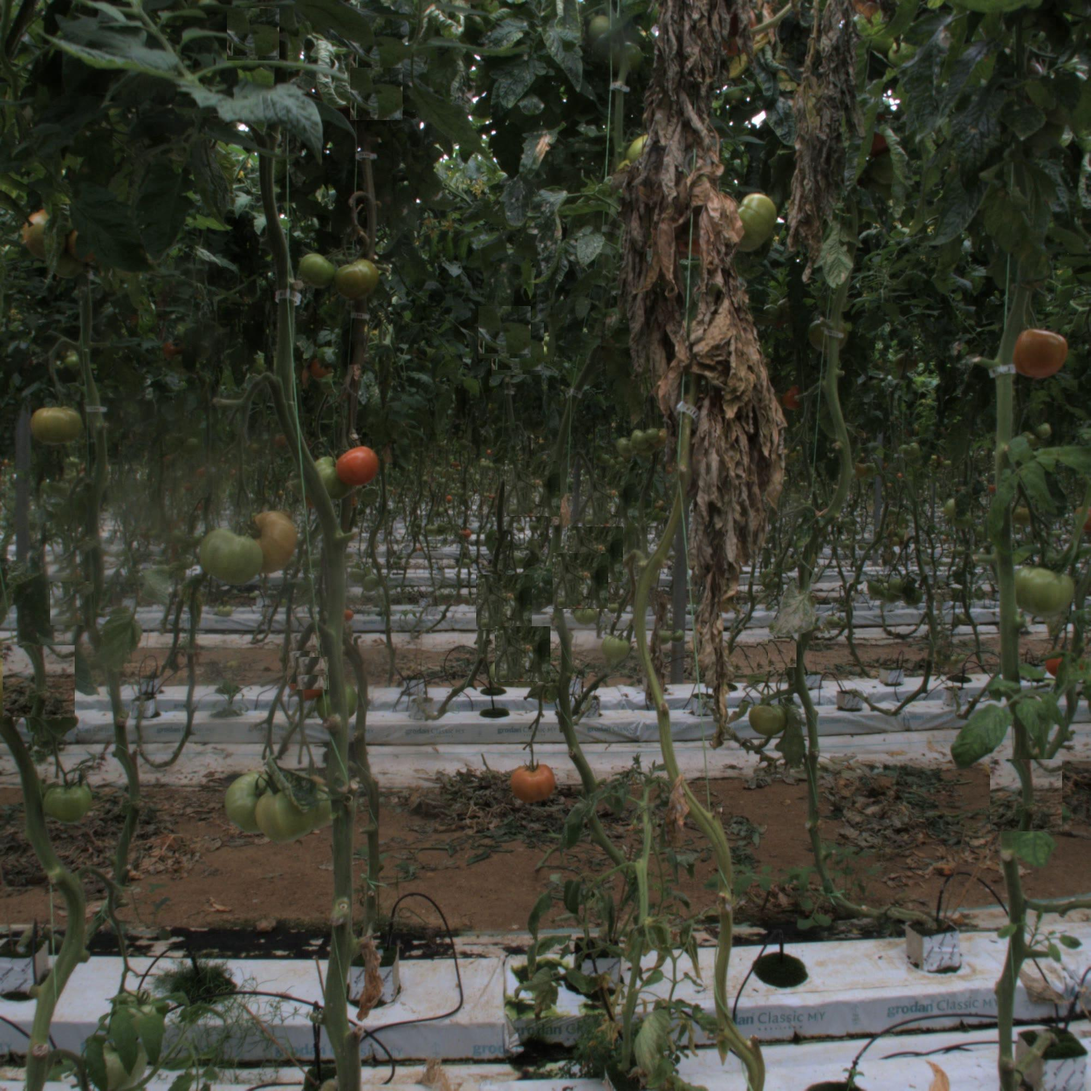fully-ripe: (509, 758, 558, 806), (1018, 327, 1066, 375), (338, 444, 377, 483)
semi-ripe: (242, 512, 299, 568)
unripe: (723, 191, 785, 254), (257, 784, 314, 841), (202, 527, 259, 584), (1014, 562, 1070, 619), (224, 776, 280, 832), (41, 774, 94, 827), (33, 403, 81, 451), (297, 250, 338, 291), (749, 700, 788, 740), (338, 258, 377, 297)
